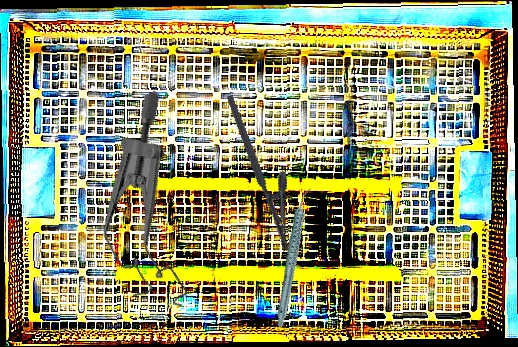Handpiece: (249, 186, 340, 329)
Needle Holder: (225, 86, 312, 253)
Speculum: (50, 89, 253, 325)
